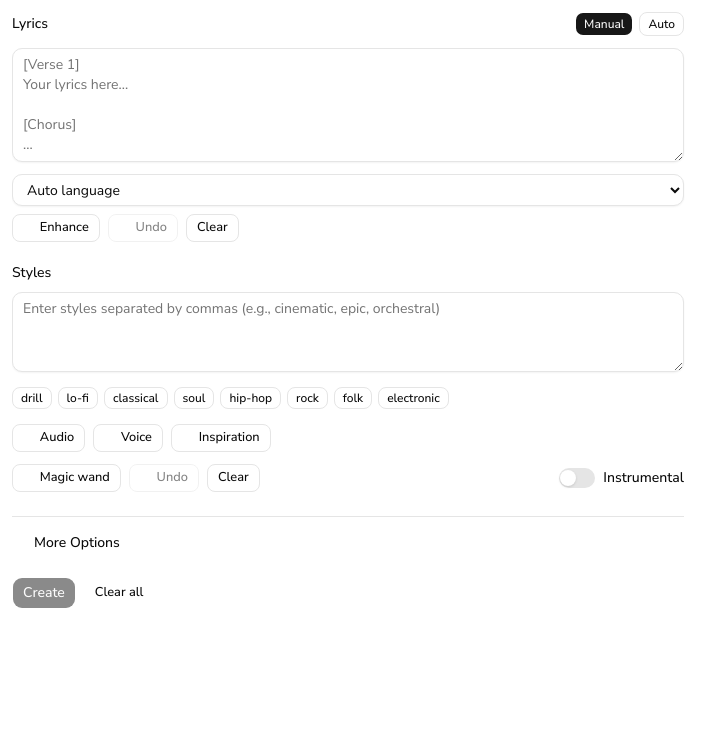
Test: AdvancedCreationForm › expands and collapses the More Options section
Expected: the field labelled "BPM" is not shown
Click the button "More Options" at (66, 543), box 12,533 -> 120,553
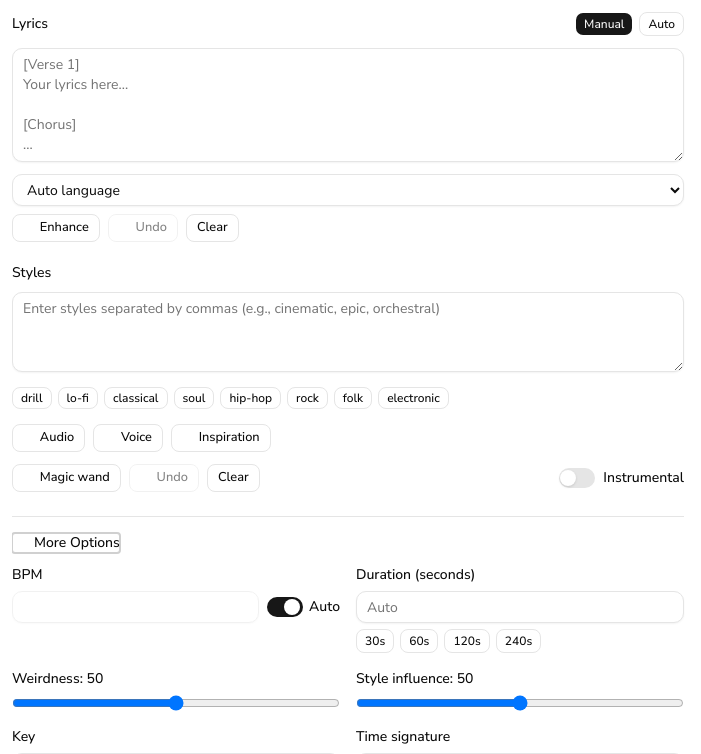
Result: the slider named "weirdness" is shown at 12,695 -> 340,711
Click the button "More Options" at (66, 543), box 12,533 -> 120,553
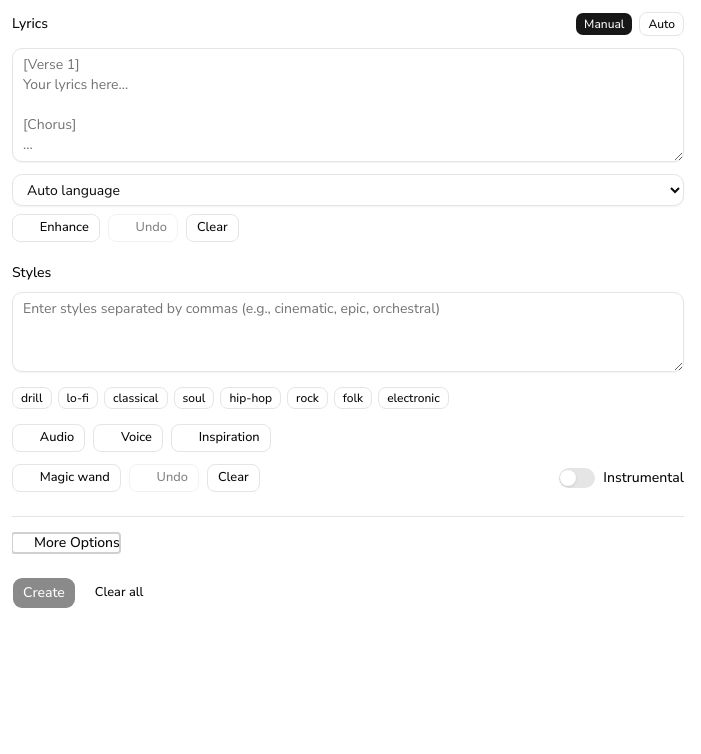
Result: the label labelled "BPM" is gone
